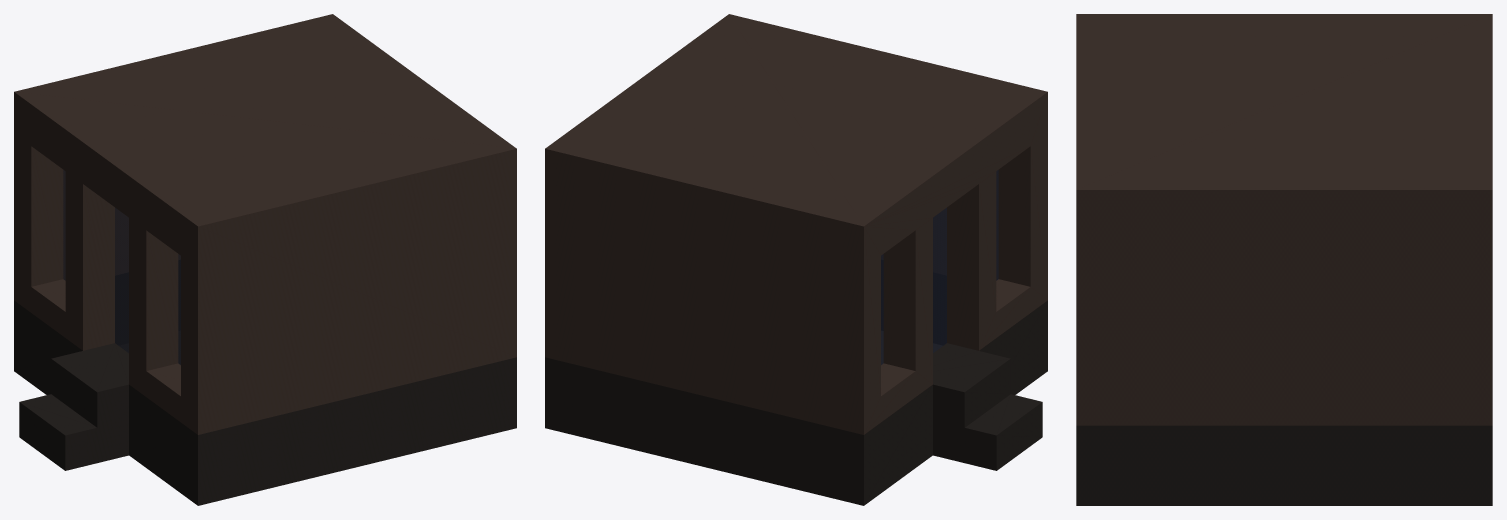
File: modularBuildings_024.obj
3 views of the same model, side by side, from view 1: azimuth 30°, elevation 25°; view 2: azimuth 150°, elevation 25°; view 3: azimuth 270°, elevation 25° (orthographic). The views are drawn at different scales.
Parts seen in each view (by area): view 1: Mesh1 Group1 Model; view 2: Mesh1 Group1 Model; view 3: Mesh1 Group1 Model.
Boxes of the visible parts, x1,y1,x2,y2 form: Mesh1 Group1 Model: (14,14,516,505); Mesh1 Group1 Model: (545,14,1047,505); Mesh1 Group1 Model: (1076,14,1492,505).
Size of the model in its own units: 1.2 by 0.8375 by 1.
Materials: 3 (3 with a texture image).
